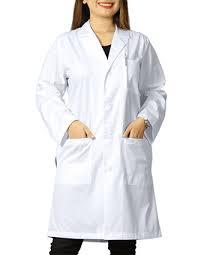lab_coat: (32, 18, 168, 248)
